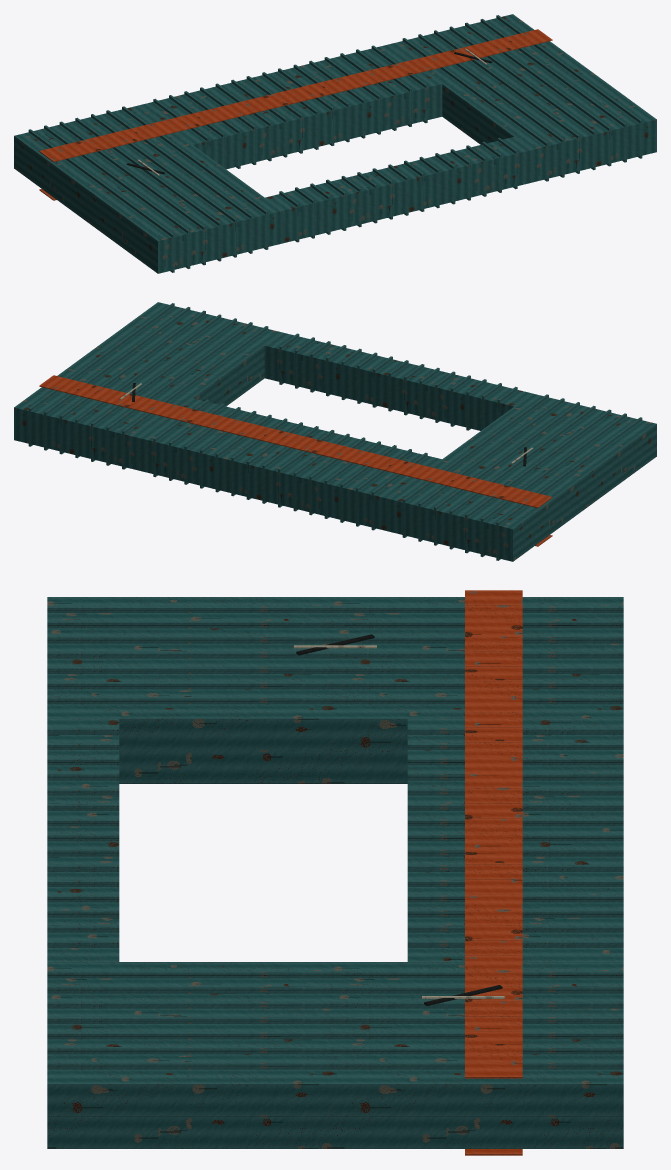
File: corrugated_window-light.obj
The picture shows the model from 3 angles, top to bottom: view 1: azimuth 30°, elevation 25°; view 2: azimuth 150°, elevation 25°; view 3: azimuth 270°, elevation 25°; orthographic projection. The views are drawn at different scales.
Parts seen in each view (by area): view 1: corrugated_window.Light; view 2: corrugated_window.Light; view 3: corrugated_window.Light.
Part boxes in pixels (left/top/right/bottom): corrugated_window.Light: left=14, top=14, right=656, bottom=273; corrugated_window.Light: left=14, top=302, right=656, bottom=561; corrugated_window.Light: left=47, top=590, right=623, bottom=1155.
Size of the model in its own units: 16 by 1.37 by 8.
Materials: 4 (4 with a texture image).
